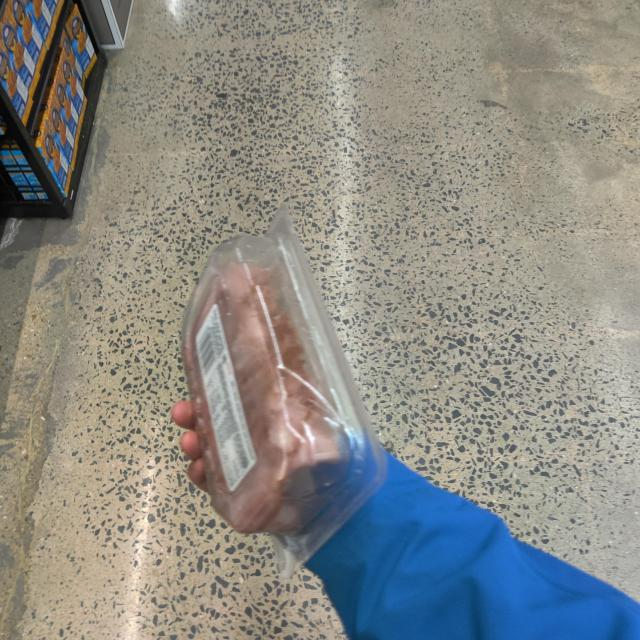Meat: (172, 252, 408, 556)
